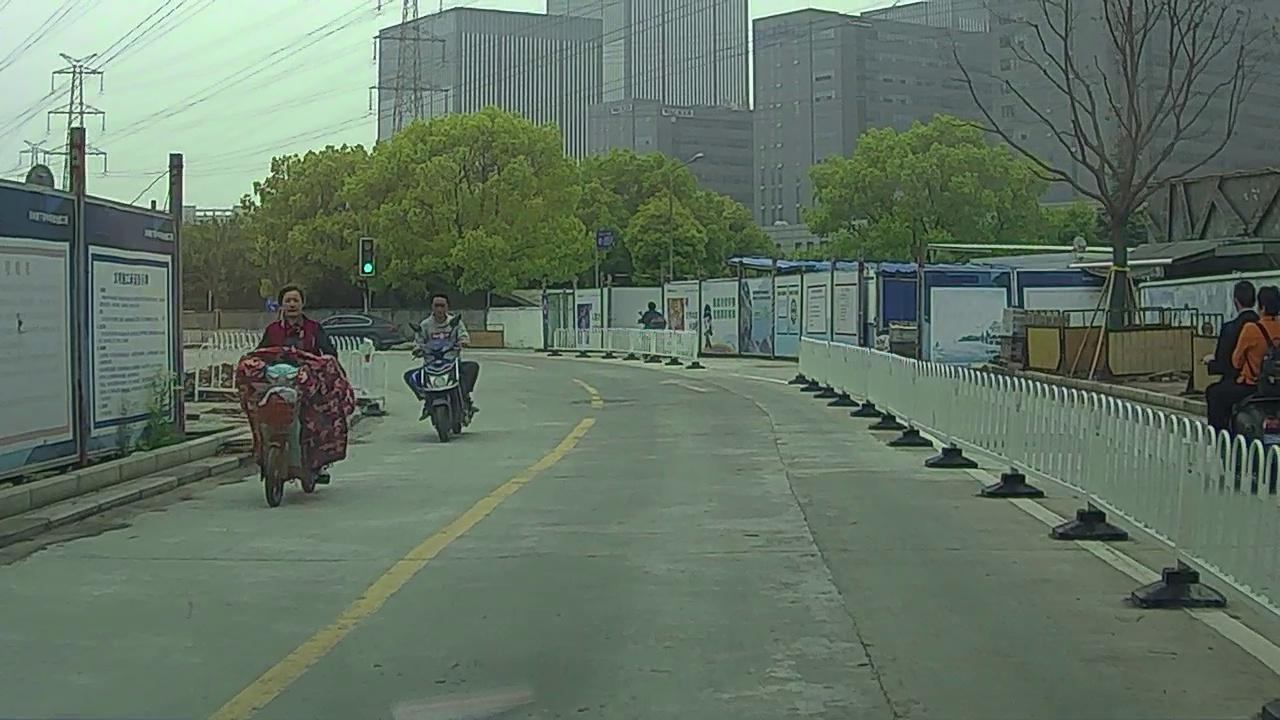traffic_light: (362, 238, 374, 274)
